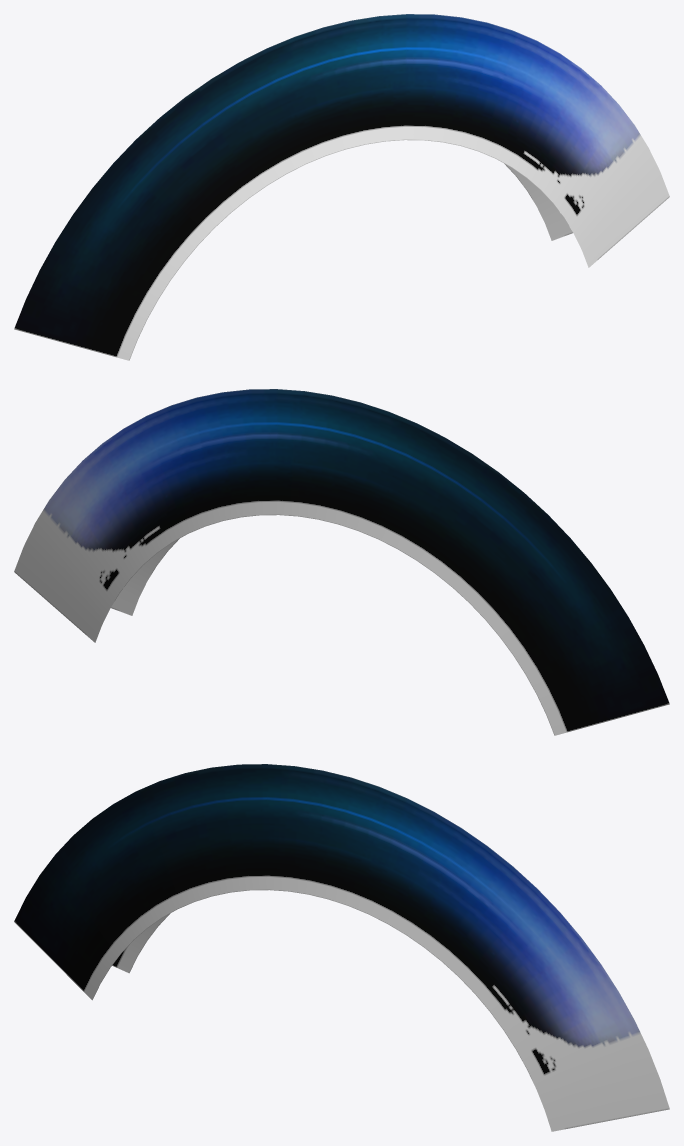
The model's file is Daoguang_Bian.FBX.
3 views of the same model, one above another, from view 1: azimuth 30°, elevation 25°; view 2: azimuth 150°, elevation 25°; view 3: azimuth 330°, elevation 25° (orthographic).
Visible parts, largest first — view 1: Plane002; view 2: Plane002; view 3: Plane002.
Part boxes in pixels (bbox=[...]): Plane002: bbox=[14, 14, 669, 360]; Plane002: bbox=[14, 389, 669, 735]; Plane002: bbox=[14, 764, 669, 1131].
Size of the model in its own units: 68.53 by 28.7 by 6.69.
